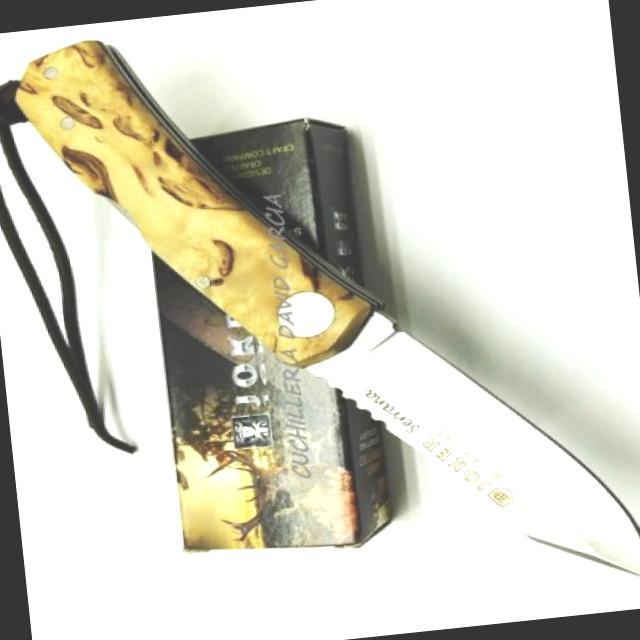knife: (267, 275, 639, 627)
